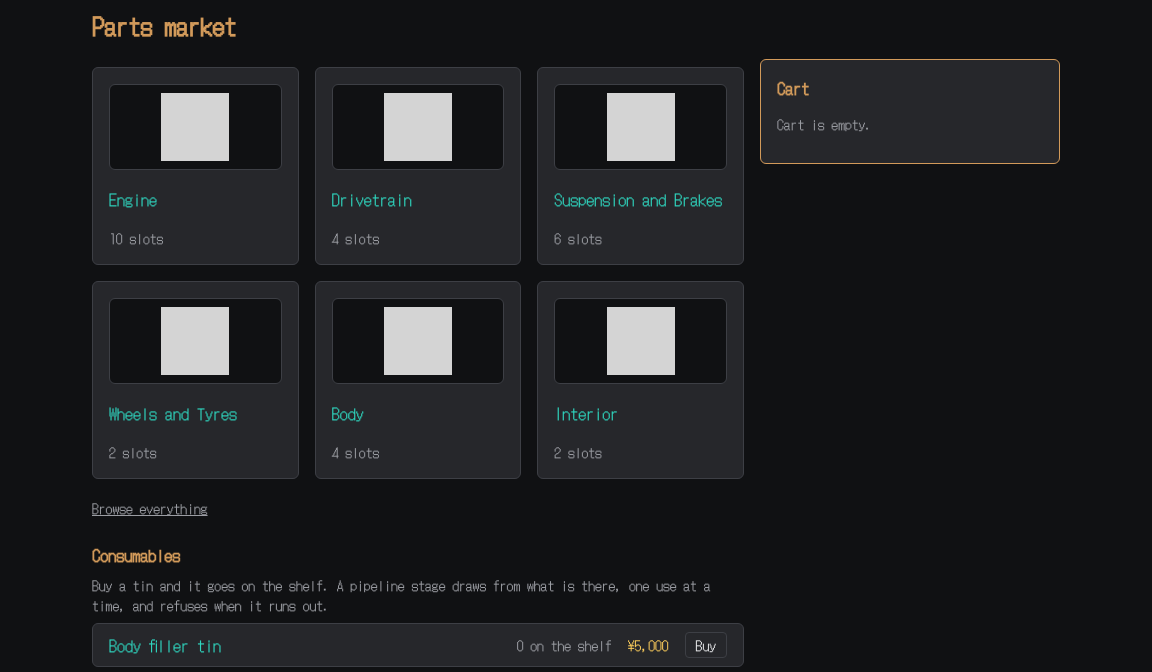
PartsMarketScreen › clicking a hero enters that department: breadcrumb, slot cards, and the home heroes gone
The image size is (1152, 672).
Click the button with test id "hero-engine" at (195, 166), box [92,67,299,265]
(page scrolled)
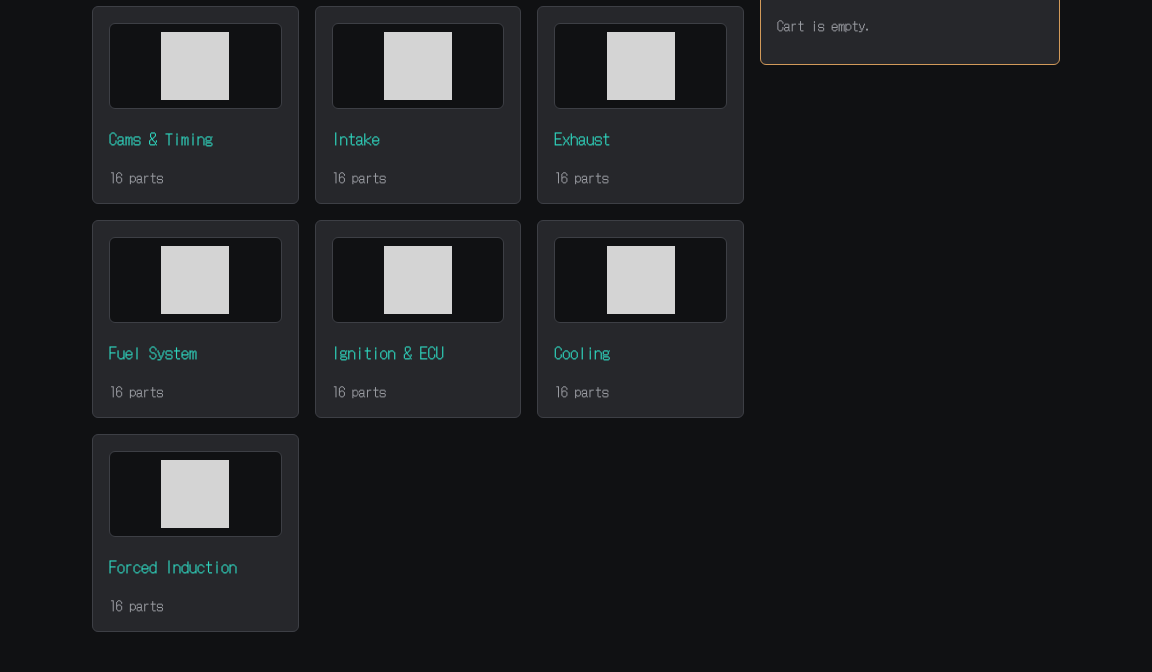
expect the button with test id "catalog-part-ignitionEcu" is shown: met, box [315,220,521,418]
